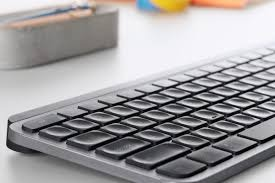keyboard: (0, 53, 275, 183)
